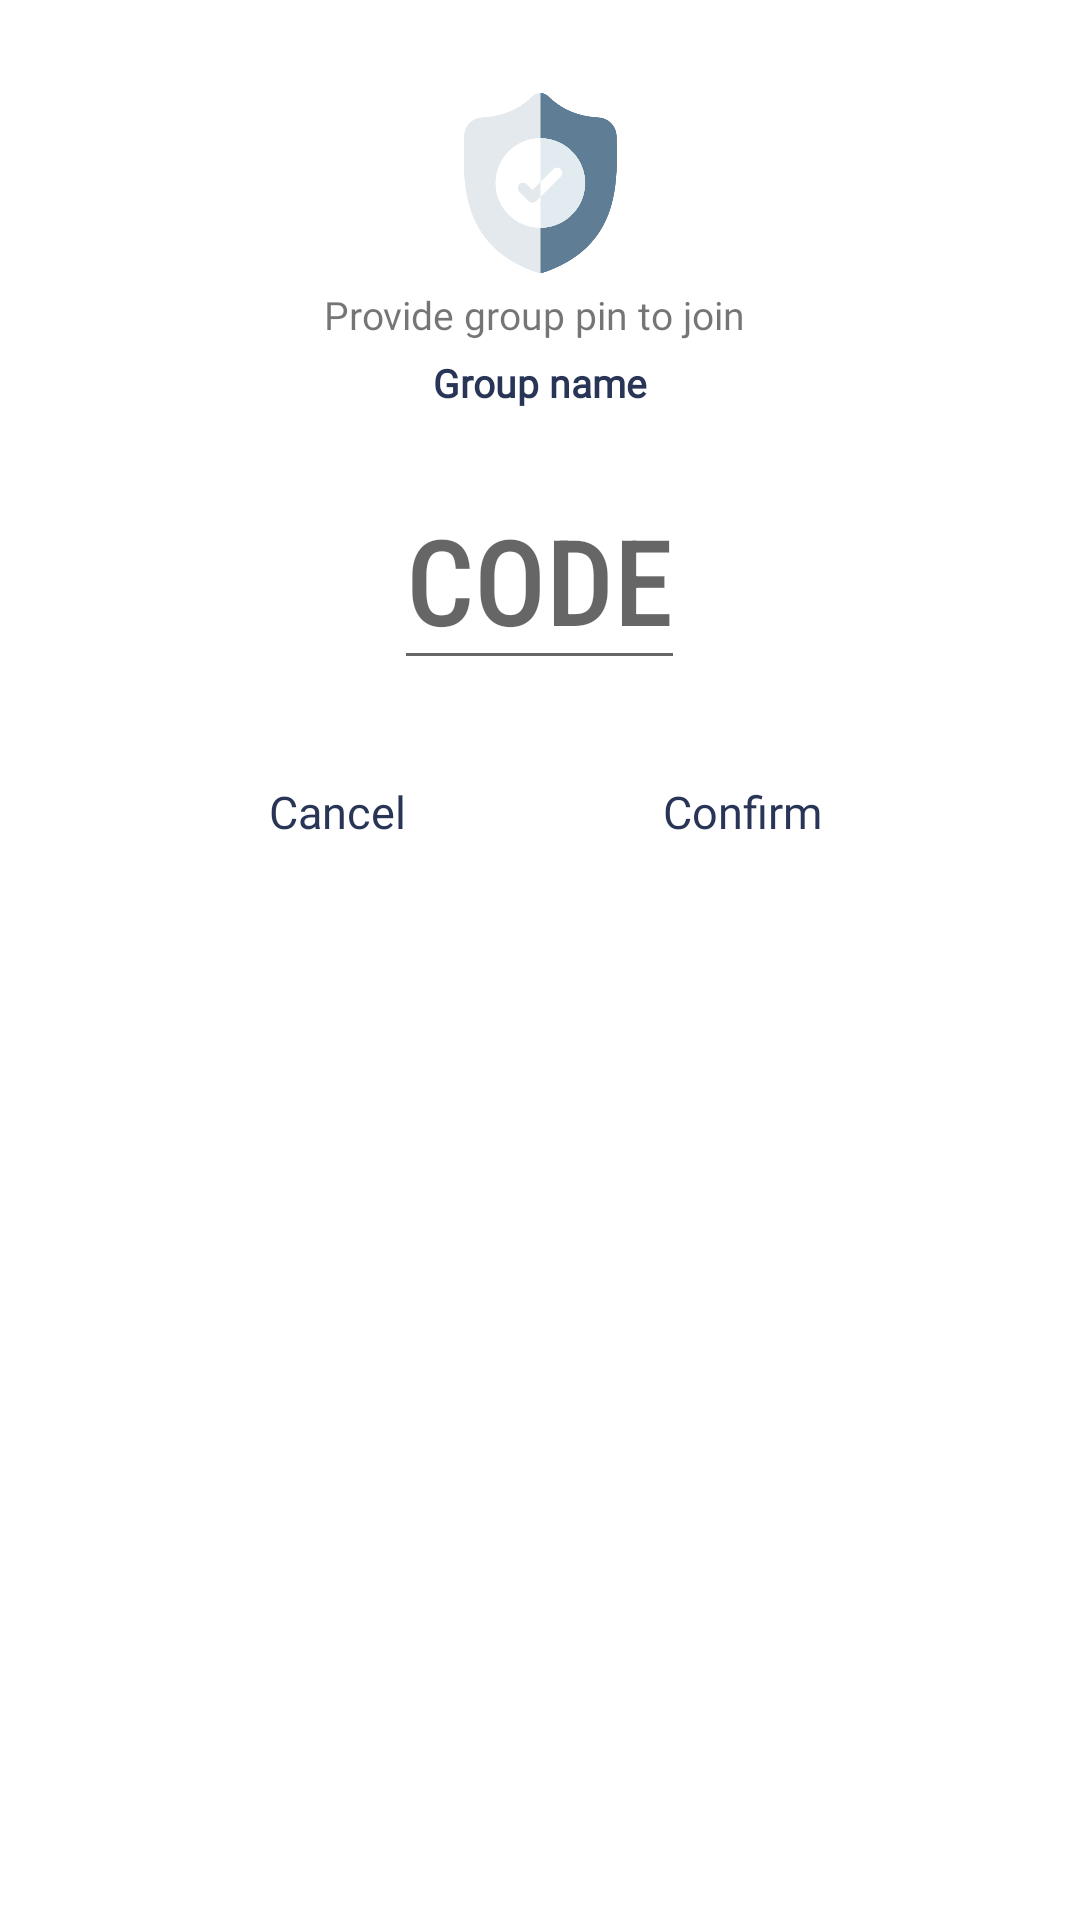

Icon click points for this 1080×1920 phone screenshot, format (x,y):
shield: (540,183)
